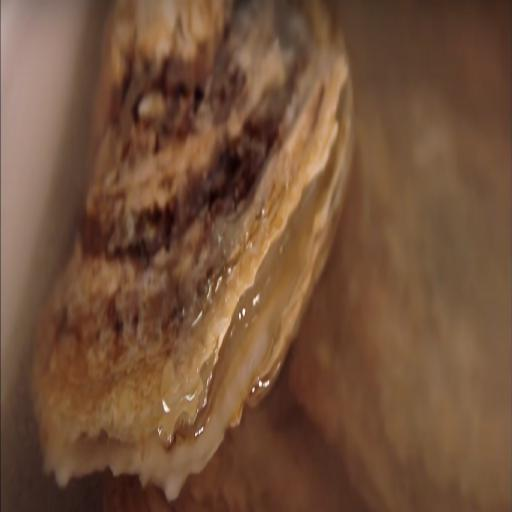Oyster-Closed: (291, 76, 512, 512)
Oyster-Open: (34, 1, 353, 487)
